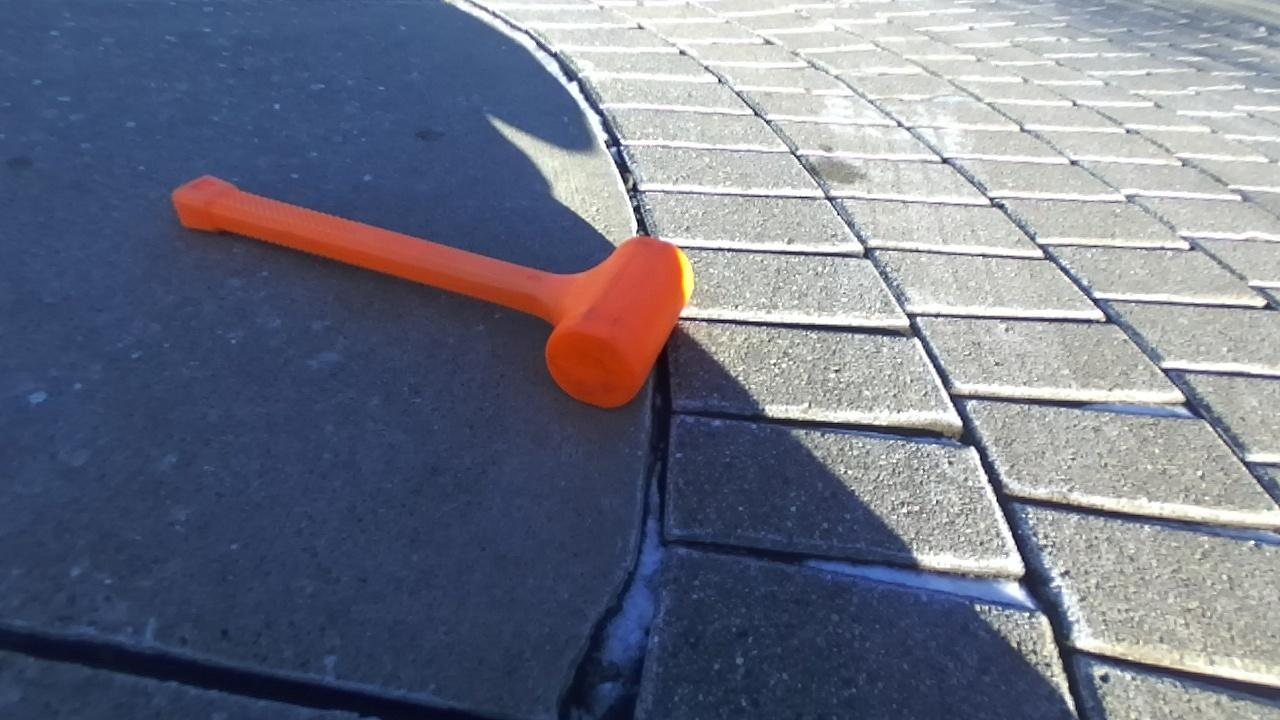mallet: (172, 176, 693, 407)
